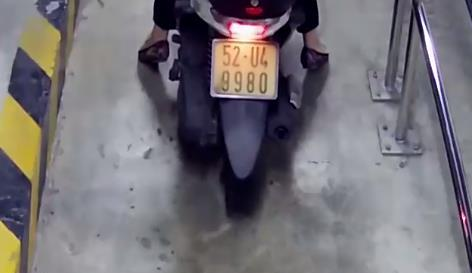lisence: (211, 38, 280, 100)
